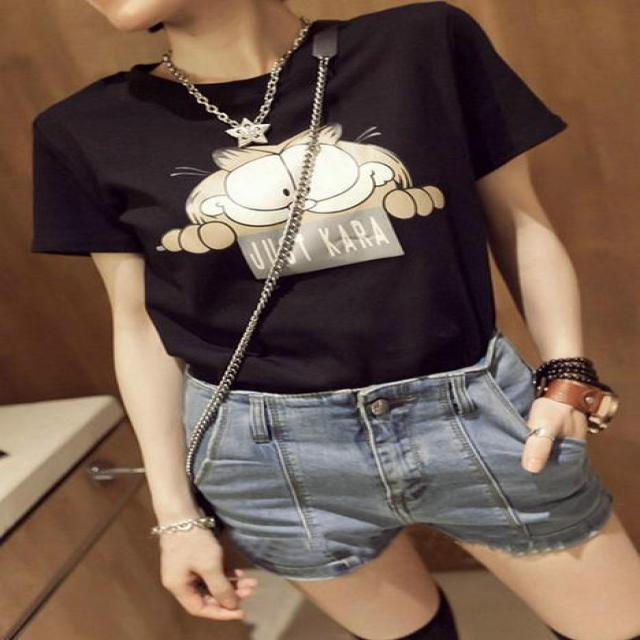short sleeve top: (31, 5, 563, 385)
shorts: (187, 339, 610, 565)
